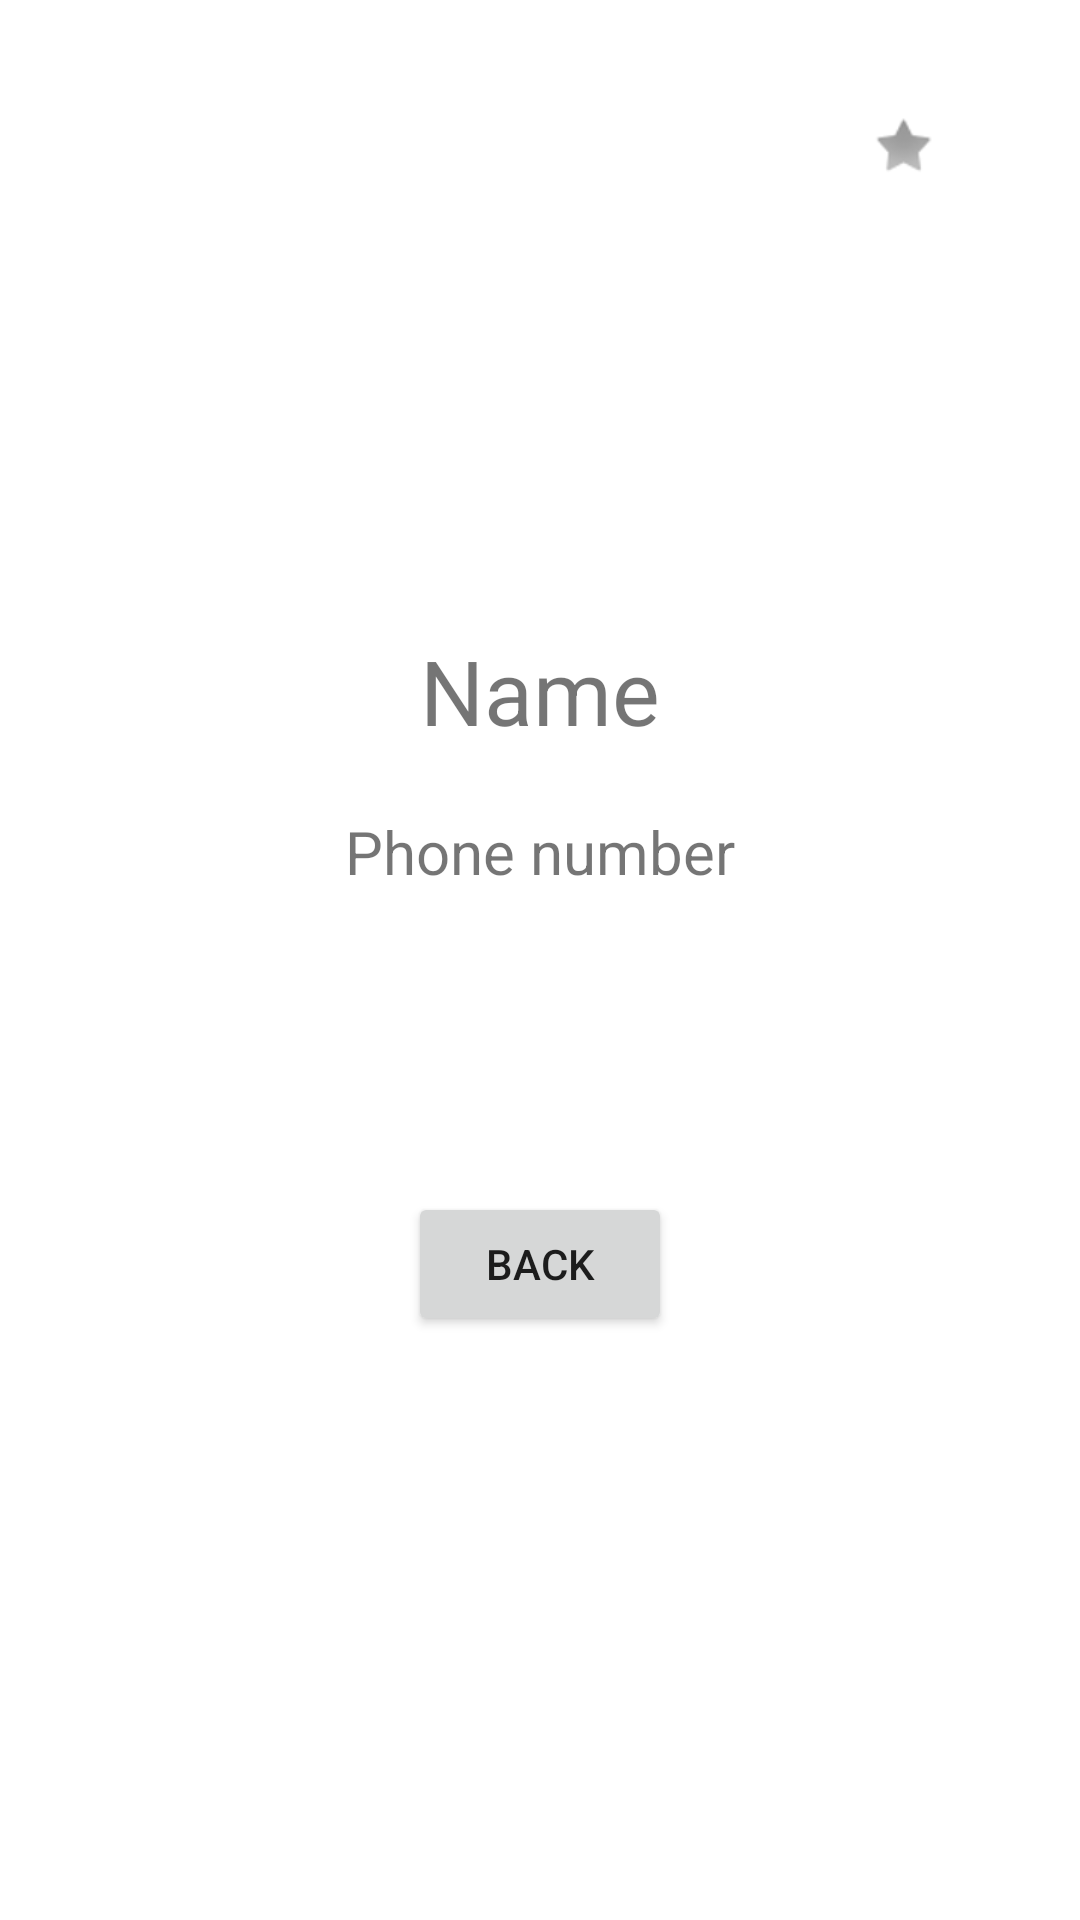

Screen size 1080px×1920px. Icon name, then its box in pixels as {"x1": x1, "y1": y1, "x2": x2, "y2": y2}:
star off: {"x1": 877, "y1": 119, "x2": 930, "y2": 170}
